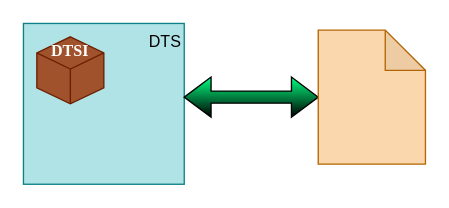
The diagram is 449 pixels wide and 208 high, and some of its shapes have lost their labels. The shapes that lost their labels are listed below. From the top down, each one's centre as x and y in pixels, then its label:
At pixel 250 96: "DTC工具".
At pixel 371 96: "DTB".
